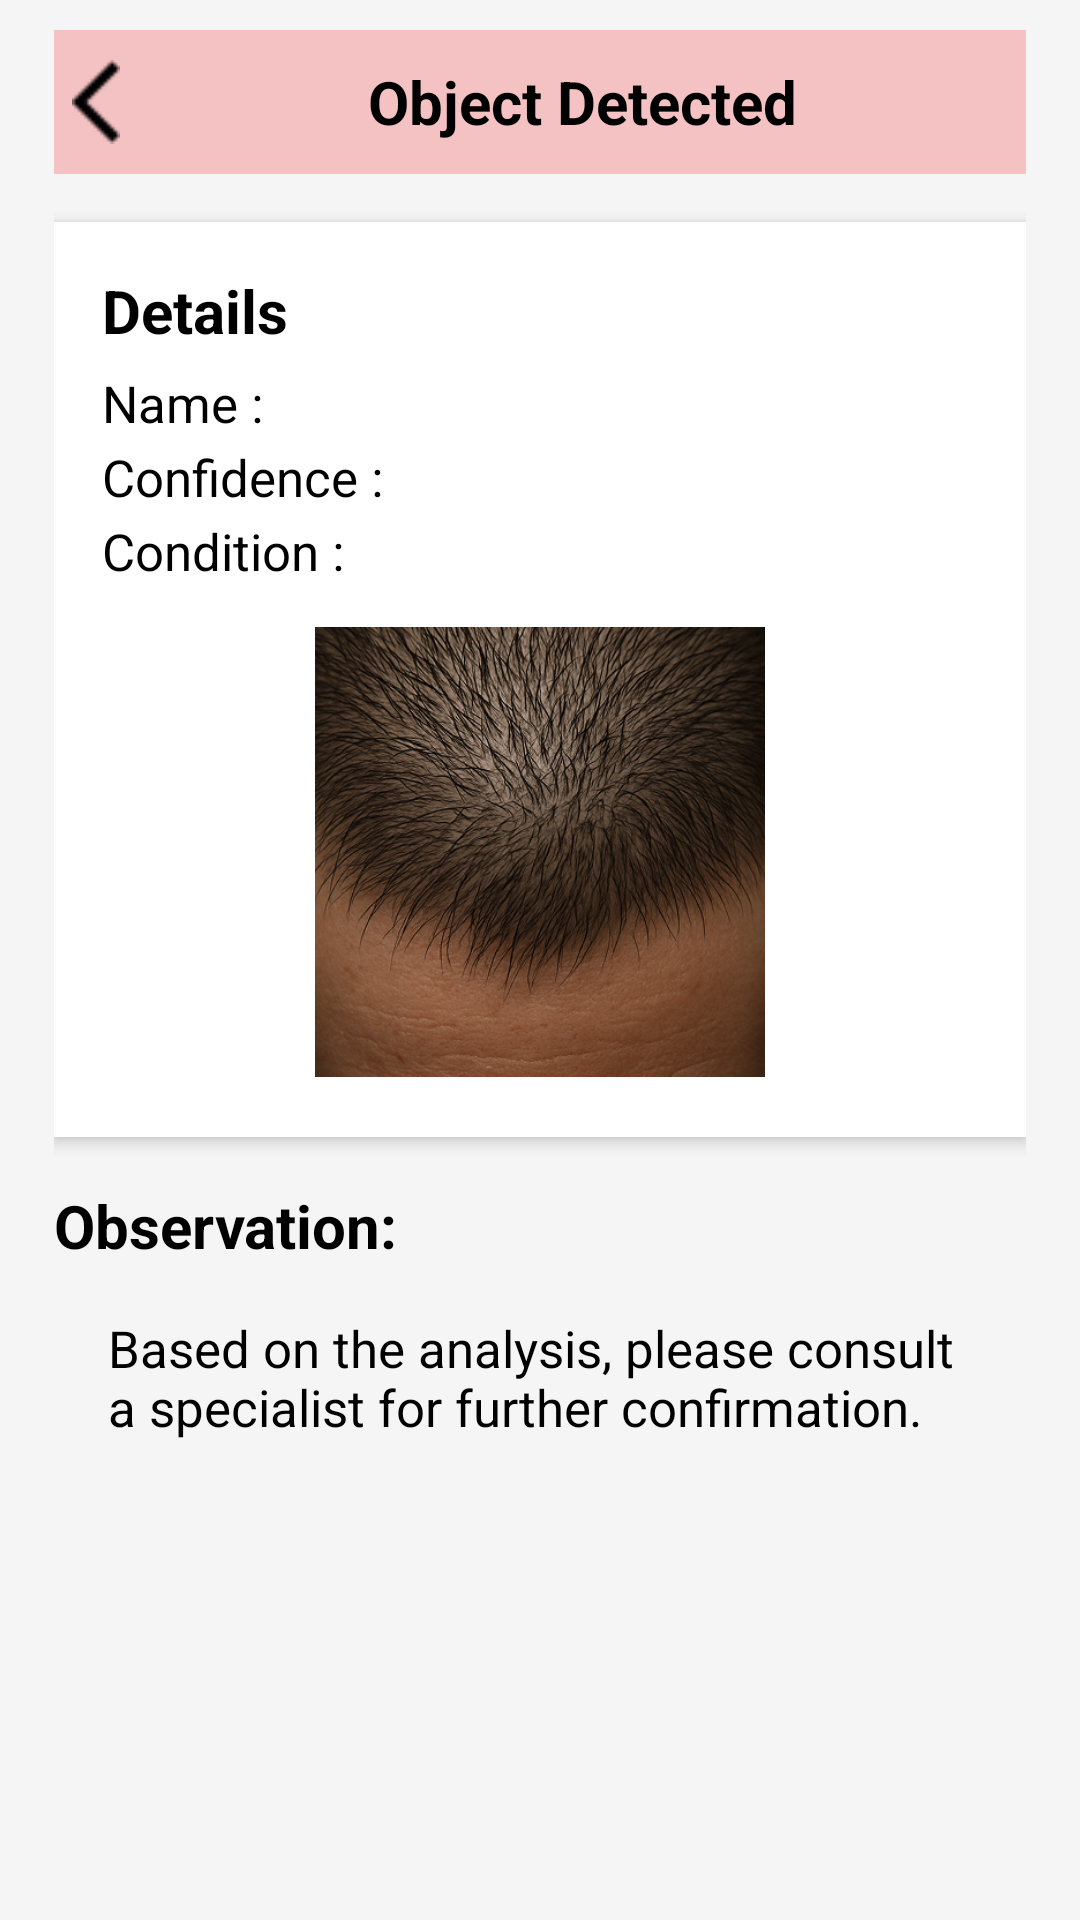

Point at icon controls on the screen. Image size 1080px x 1920px, points as (x=x, y=y).
Back: (x=96, y=102)
